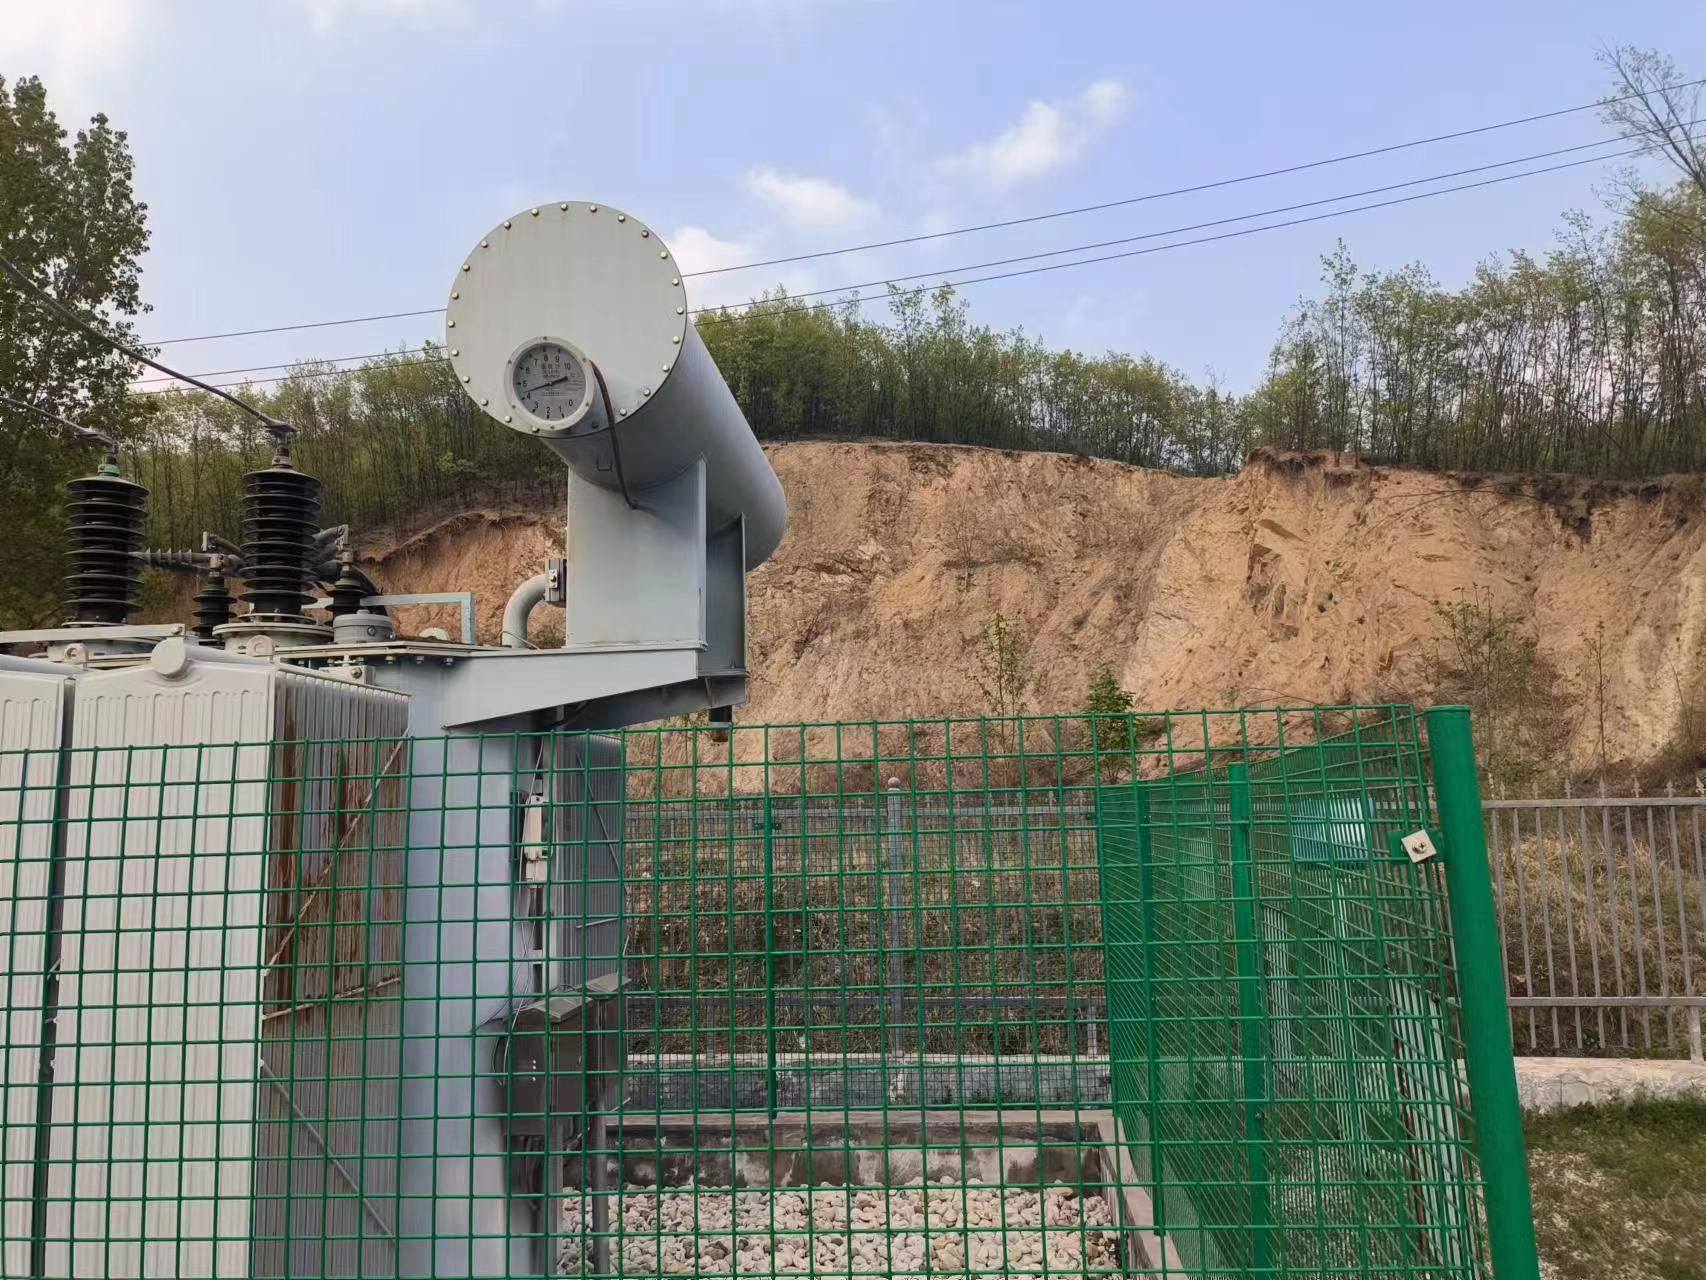Conservator: (425, 202, 819, 657)
